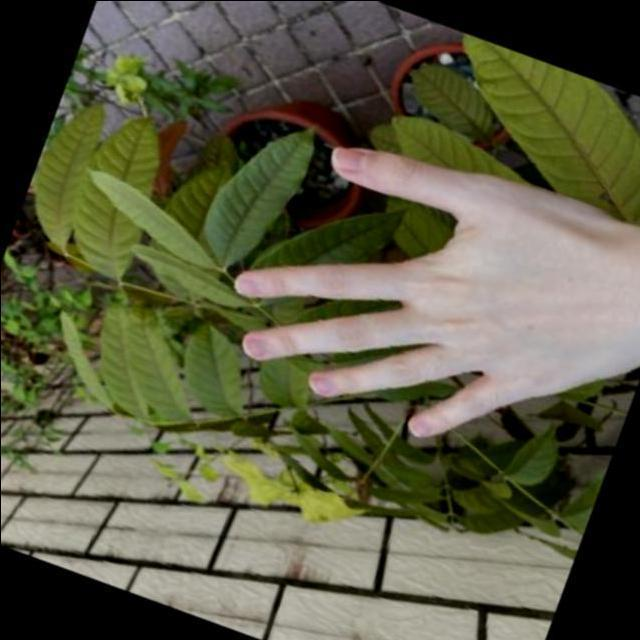hand: (188, 61, 640, 519)
